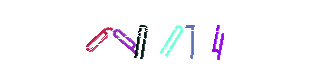4: (148, 0, 228, 80)
6: (58, 0, 138, 80)
7: (132, 0, 212, 80)
N: (120, 0, 200, 80), (131, 0, 211, 80)
P: (101, 0, 181, 80)
